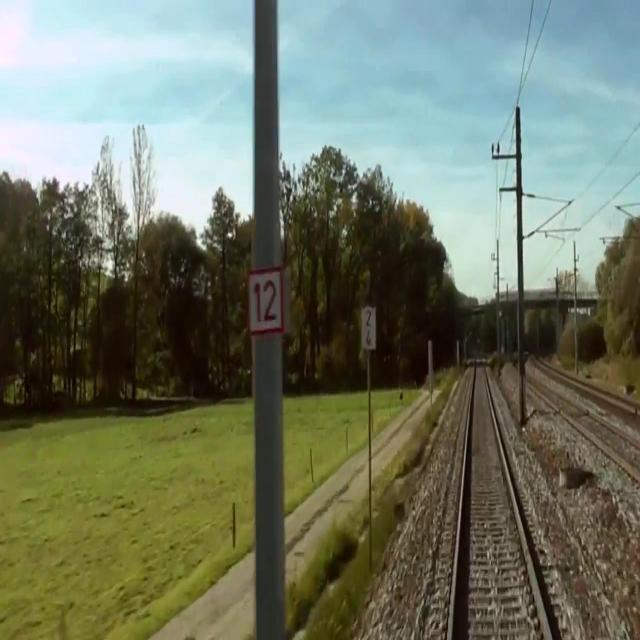rail-track: (452, 355, 547, 639), (526, 375, 640, 478), (590, 389, 640, 413)
